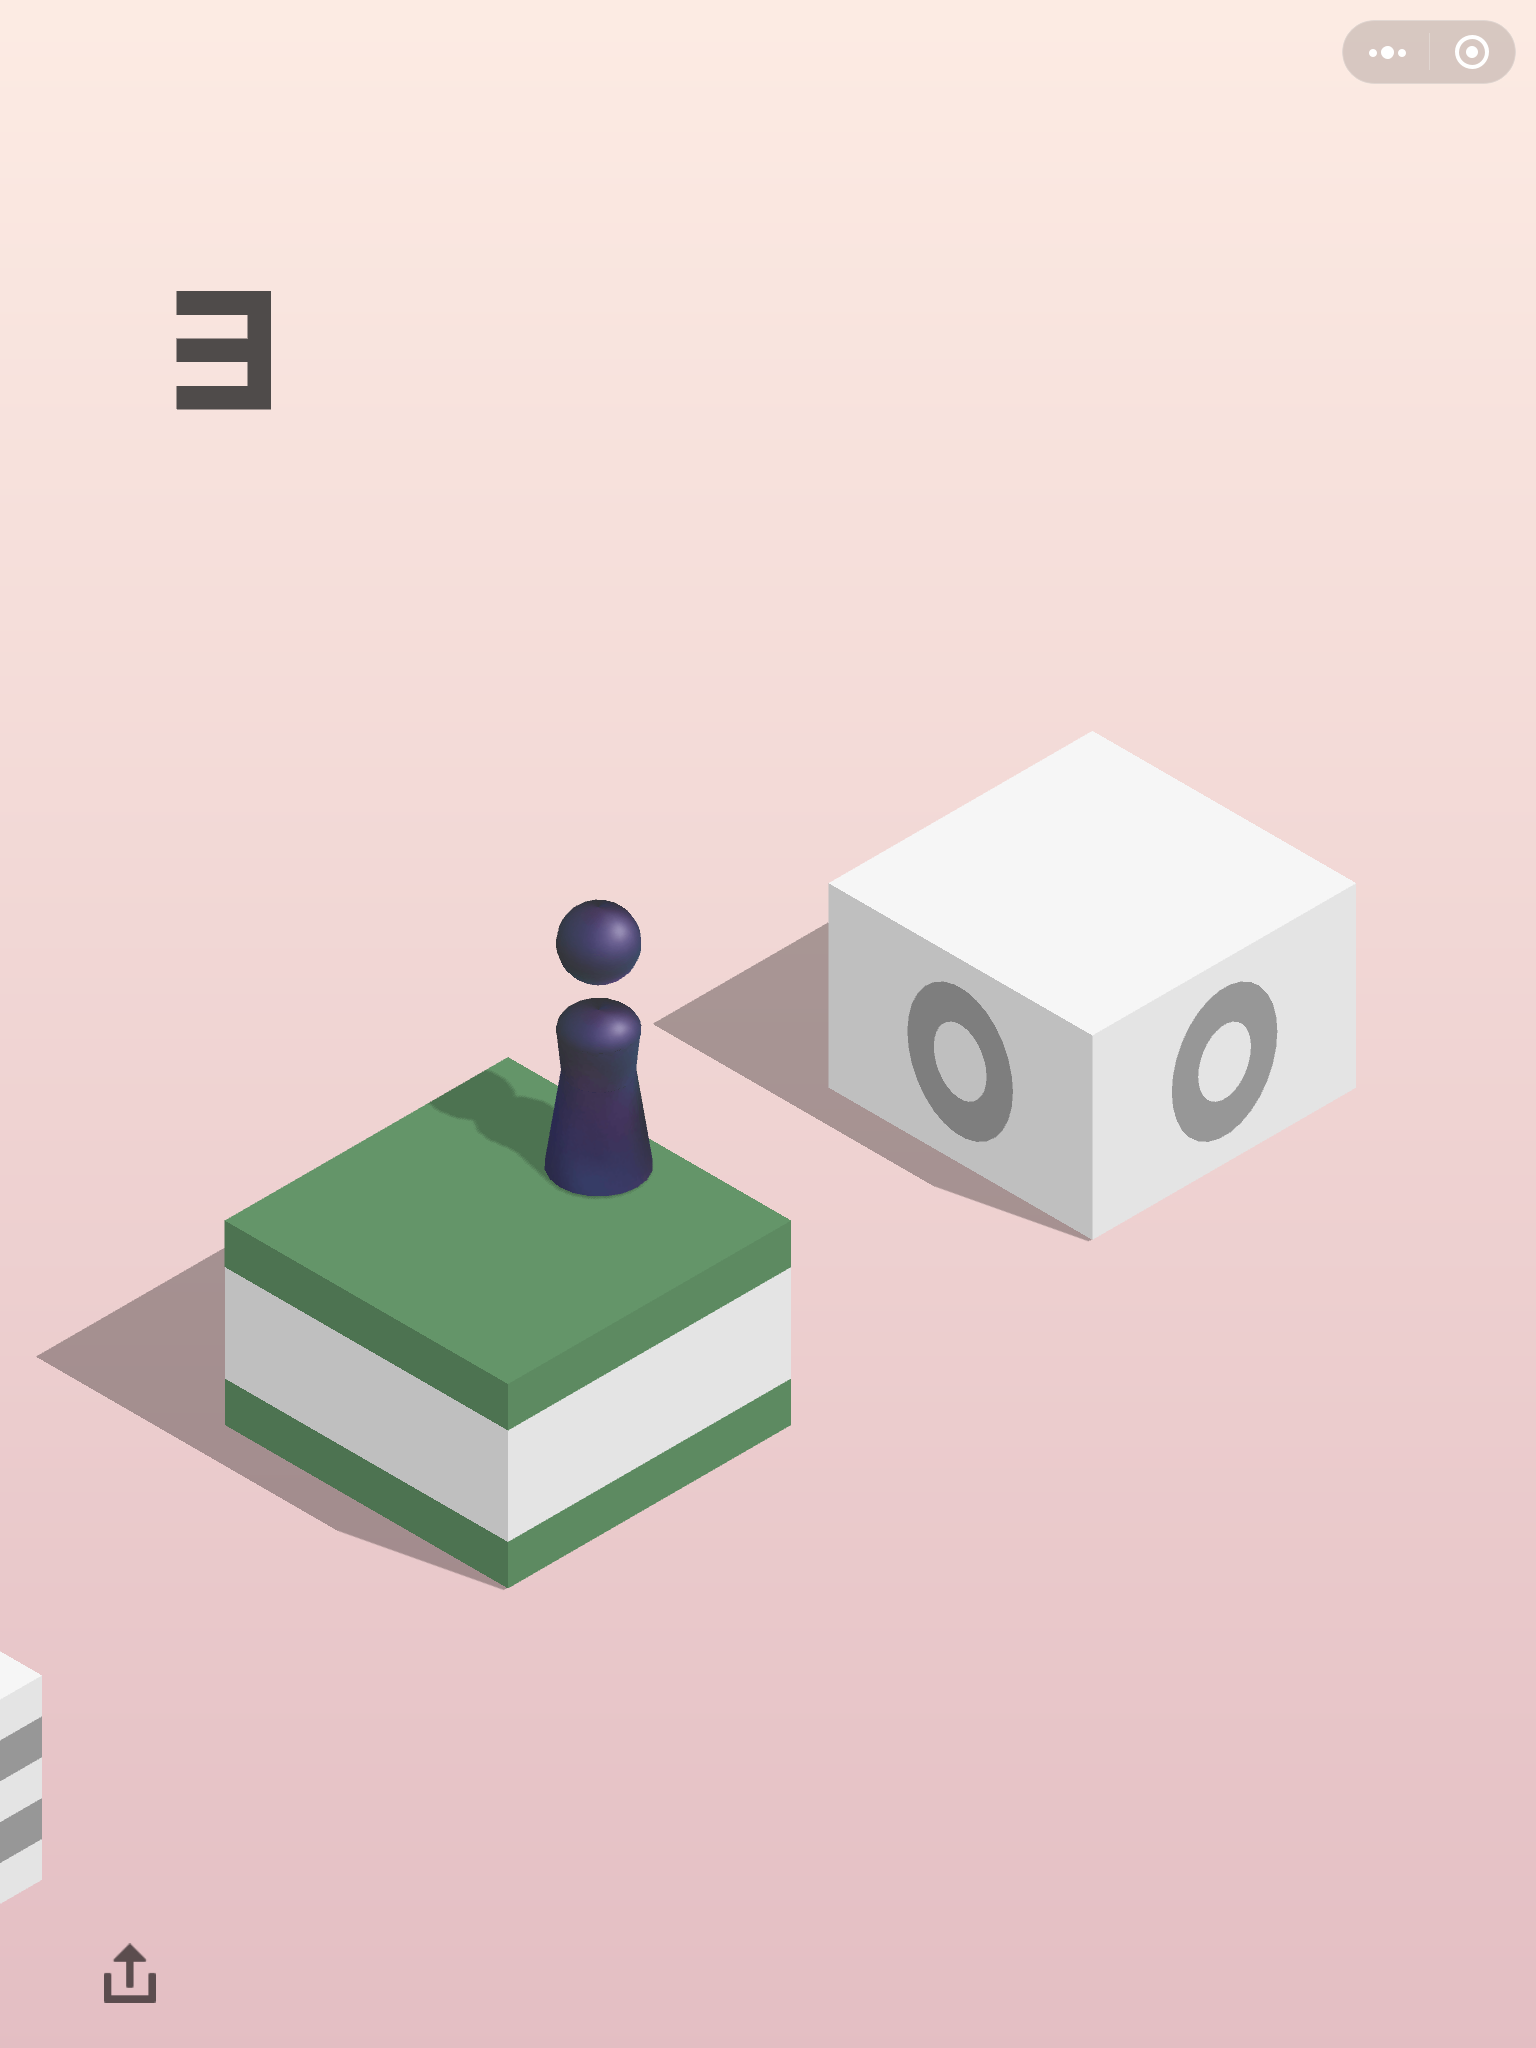f: (219, 1066, 799, 1592), (821, 726, 1368, 1247)
r: (541, 892, 653, 1197)
